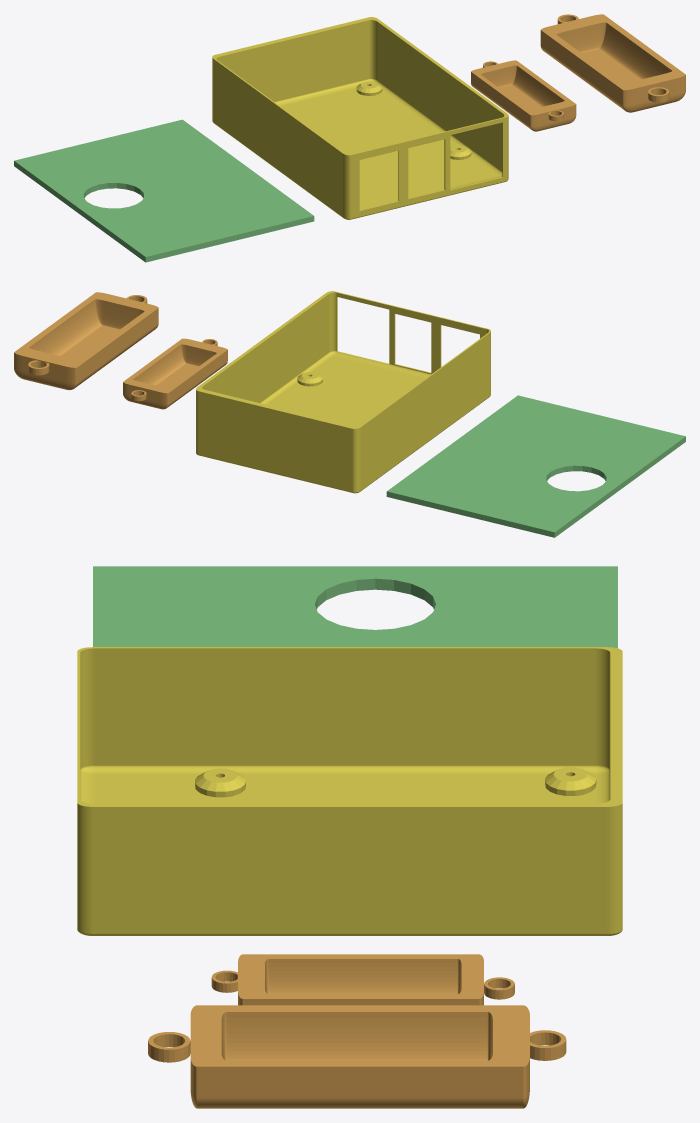
File: Component View.glb
The picture shows the model from 3 angles, top to bottom: view 1: azimuth 30°, elevation 25°; view 2: azimuth 150°, elevation 25°; view 3: azimuth 270°, elevation 25°; orthographic projection. The views are drawn at different scales.
Parts seen in each view (by area): view 1: Mesh_Mesh_head_geo.001_lambert2SG.001; view 2: Mesh_Mesh_head_geo.001_lambert2SG.001; view 3: Mesh_Mesh_head_geo.001_lambert2SG.001.
Part boxes in pixels (x1,y1,x2,y2): Mesh_Mesh_head_geo.001_lambert2SG.001: (14, 14, 685, 262); Mesh_Mesh_head_geo.001_lambert2SG.001: (14, 291, 685, 537); Mesh_Mesh_head_geo.001_lambert2SG.001: (77, 566, 622, 1108).
Size of the model in its own units: 215 by 24.03 by 90.
